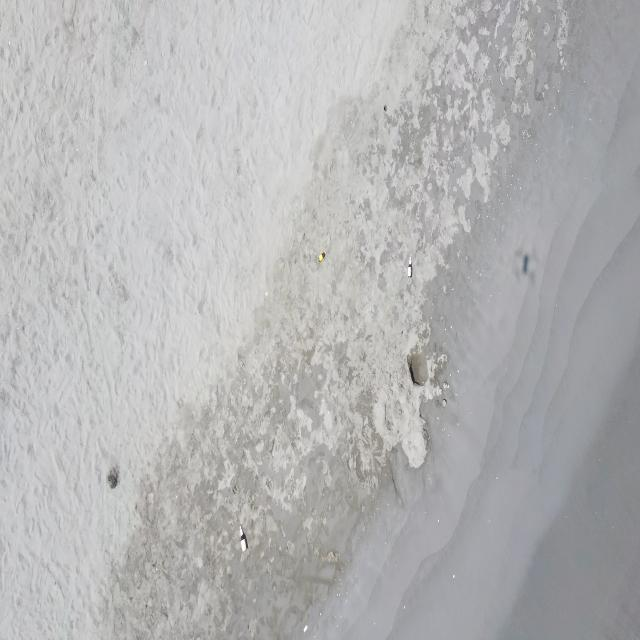glass: (239, 525, 248, 552), (408, 256, 413, 280), (318, 251, 327, 263)
